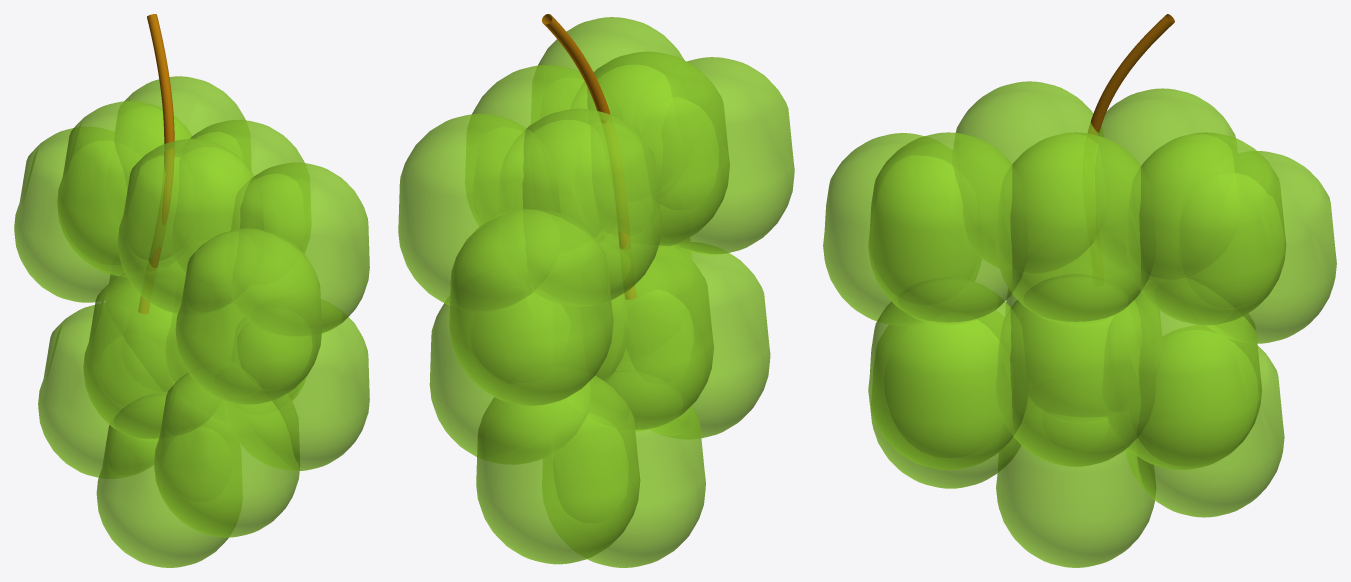
Rendered from Grapes.fbx.
The picture shows the model from 3 angles, left to right: view 1: azimuth 30°, elevation 25°; view 2: azimuth 150°, elevation 25°; view 3: azimuth 270°, elevation 25°; orthographic projection. The views are drawn at different scales.
Parts seen in each view (by area): view 1: Sphere_013, NurbsPath; view 2: Sphere_013, NurbsPath; view 3: Sphere_013, NurbsPath.
Part boxes in pixels (x1,y1,x2,y2): Sphere_013: (14, 76, 369, 567); NurbsPath: (138, 14, 174, 313); Sphere_013: (398, 17, 794, 567); NurbsPath: (542, 14, 636, 299); Sphere_013: (823, 81, 1336, 567); NurbsPath: (1088, 14, 1174, 135).
Size of the model in its own units: 3.24 by 7.69 by 6.41.
